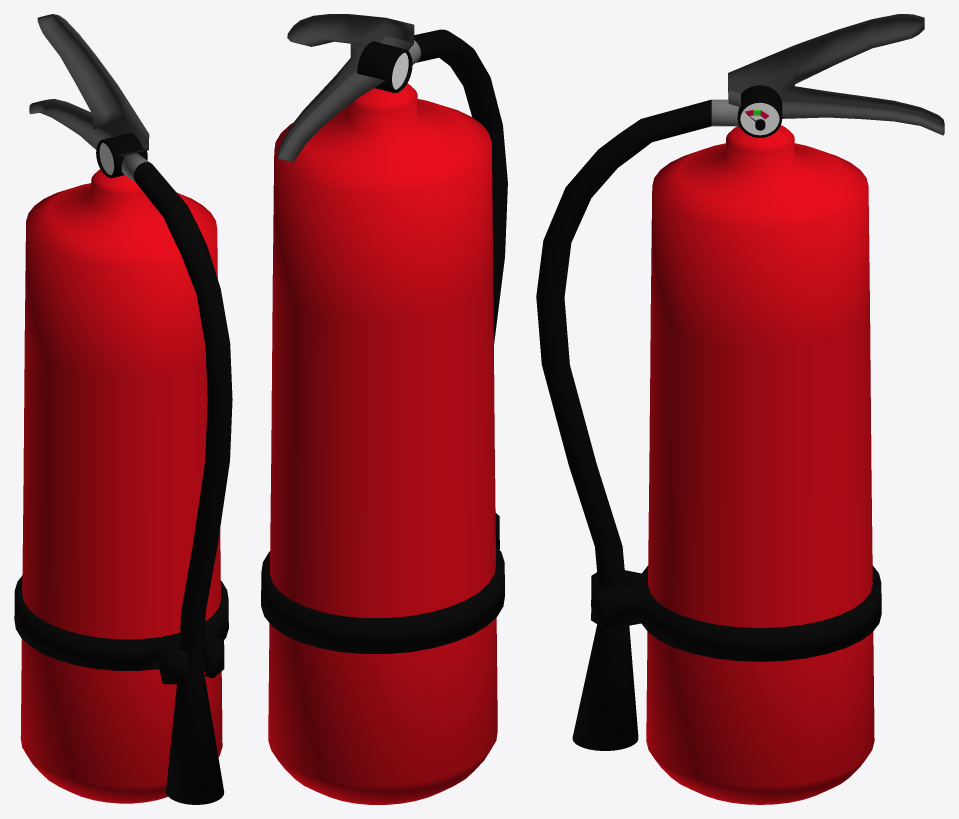
Rendered from Fire Extingusher.fbx.
3 renders of one model, left to right at view 1: azimuth 30°, elevation 25°; view 2: azimuth 150°, elevation 25°; view 3: azimuth 270°, elevation 25°, orthographic. The views are drawn at different scales.
Visible parts, largest first — view 1: Fire Extinguisher.004, Fire Extinguisher.009, Fire Extinguisher.003, Fire Extinguisher.007, Fire Extinguisher.005, Fire Extinguisher.008; view 2: Fire Extinguisher.004, Fire Extinguisher.003, Fire Extinguisher.007, Fire Extinguisher.009, Fire Extinguisher.005; view 3: Fire Extinguisher.004, Fire Extinguisher.009, Fire Extinguisher.003, Fire Extinguisher.007, Fire Extinguisher.005, Fire Extinguisher.006.
Part boxes in pixels (x1,y1,x2,y2): Fire Extinguisher.004: [20, 169, 222, 803]; Fire Extinguisher.009: [133, 162, 232, 804]; Fire Extinguisher.003: [14, 576, 228, 684]; Fire Extinguisher.007: [29, 14, 149, 156]; Fire Extinguisher.005: [96, 133, 147, 178]; Fire Extinguisher.008: [121, 153, 149, 182]; Fire Extinguisher.004: [268, 83, 497, 804]; Fire Extinguisher.003: [261, 513, 504, 653]; Fire Extinguisher.007: [277, 14, 414, 162]; Fire Extinguisher.009: [414, 29, 507, 343]; Fire Extinguisher.005: [357, 41, 412, 92]; Fire Extinguisher.004: [646, 125, 874, 804]; Fire Extinguisher.009: [536, 99, 711, 750]; Fire Extinguisher.003: [591, 565, 881, 661]; Fire Extinguisher.007: [728, 14, 944, 135]; Fire Extinguisher.005: [737, 85, 782, 137]; Fire Extinguisher.006: [740, 102, 779, 135].
Bounding box in the file's own units: 17.67 × 66.31 × 31.95.
